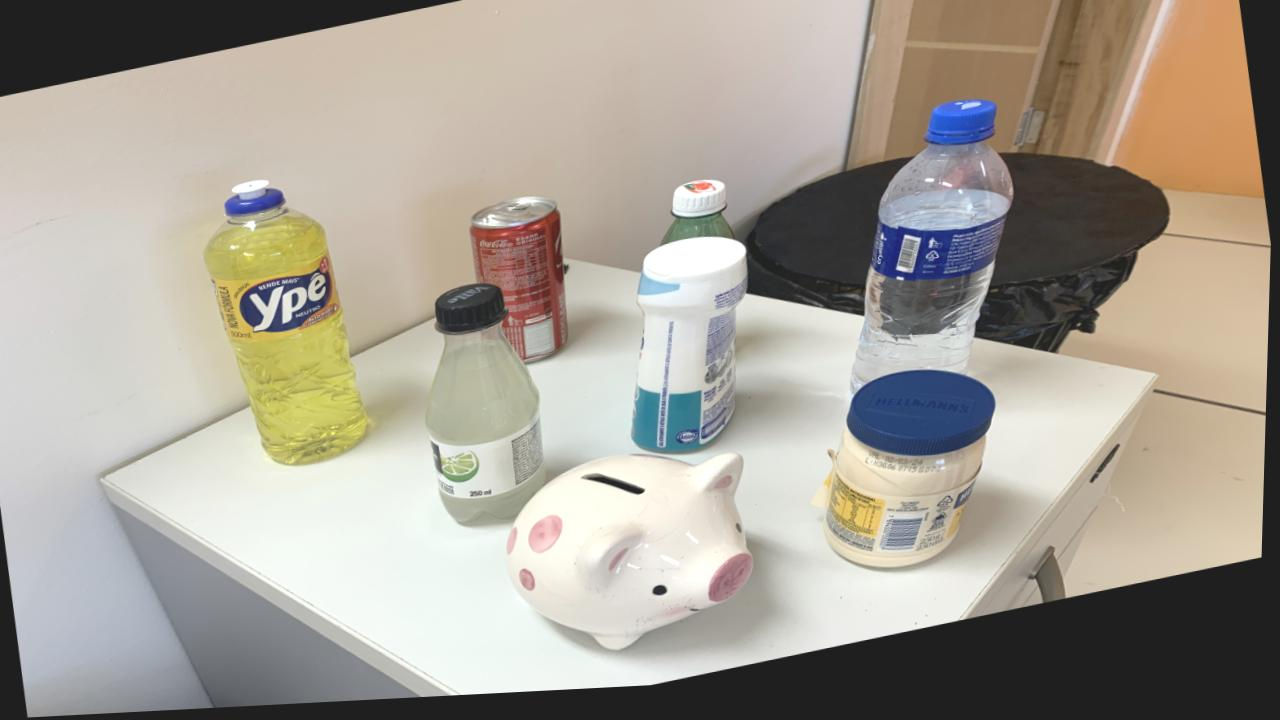Cleaner-Cleanup_Items: (634, 243, 750, 460)
Coke-Drinks: (470, 202, 571, 367), (704, 229, 706, 230)
Detergent-Cleanup_Items: (206, 182, 370, 468)
Guarana-Drinks: (663, 186, 736, 252)
Mayonnaise-Pantry_Items: (827, 379, 999, 577)
Pig_Safe-Miscellaneous: (510, 460, 756, 656), (932, 501, 934, 503)
Soda-Drinks: (429, 288, 549, 527)
Water_Bottle-Drinks: (853, 110, 1016, 399)
